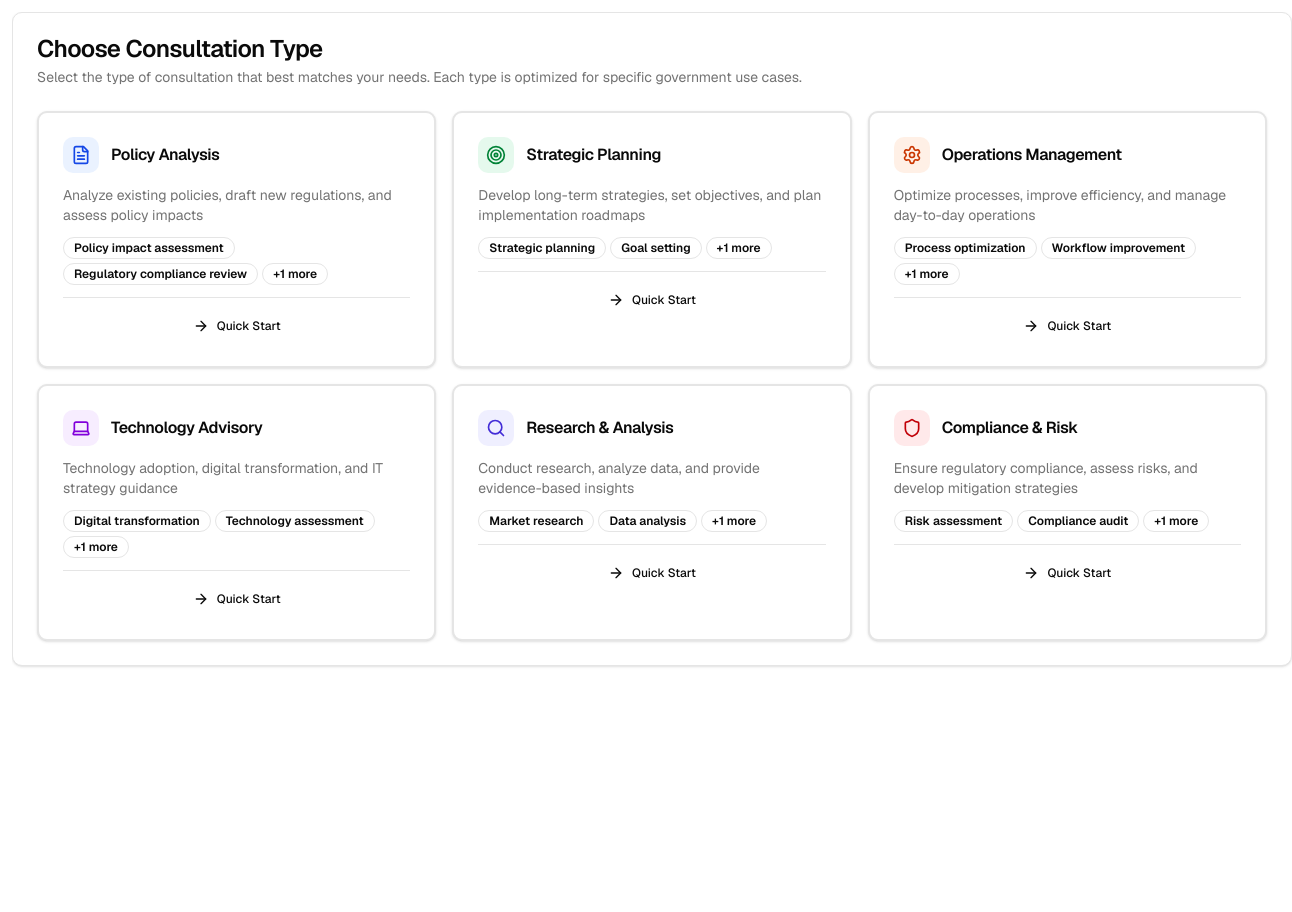
Test case: ConsultationTypeSelector › allows navigation back from details form
Click the text "Policy Analysis" at (165, 154), box x1=111 y1=144 x2=219 y2=165
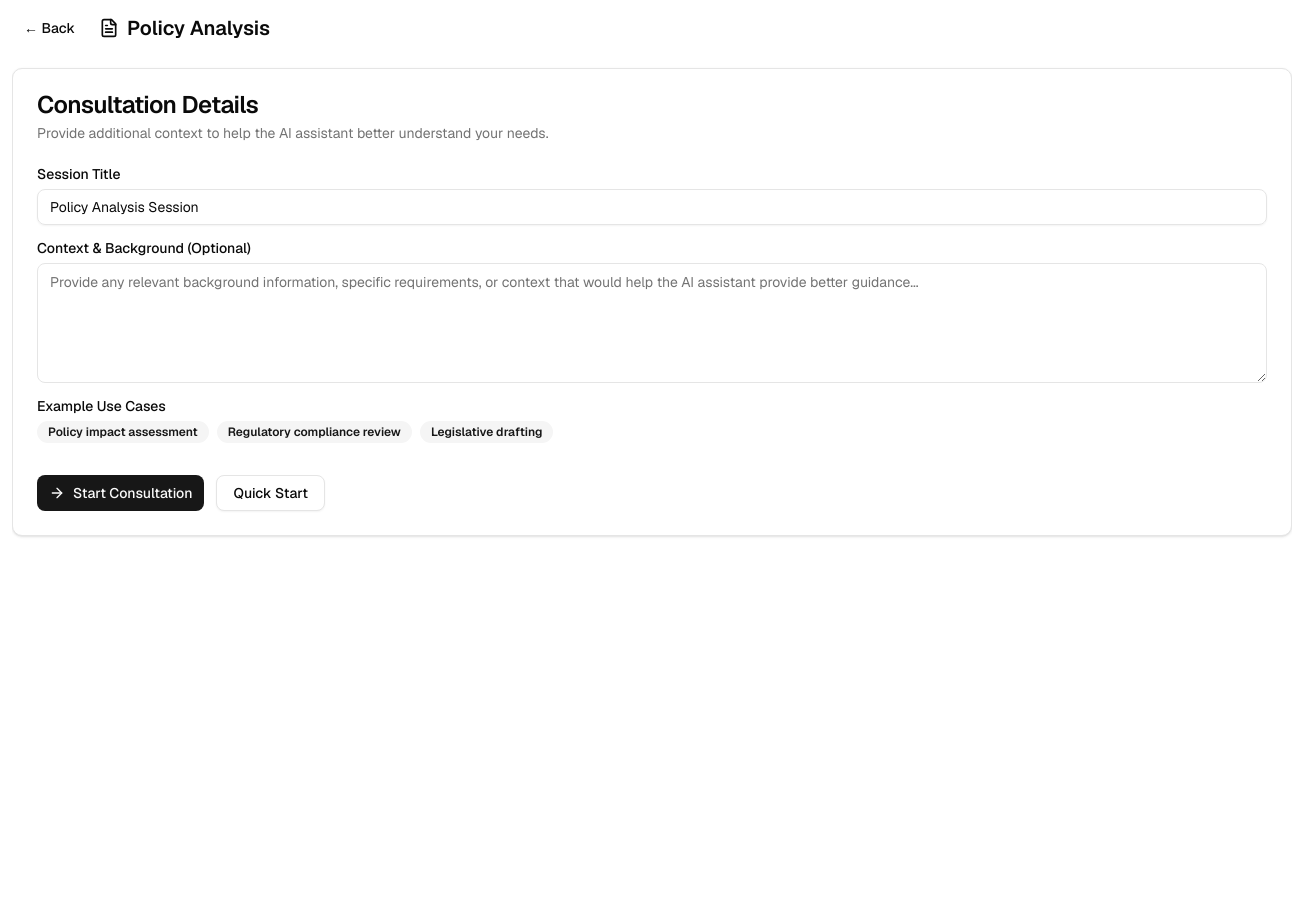
expect the heading "Consultation Details" is shown: met, box x1=37 y1=89 x2=258 y2=120
//  Go back
Click the button "← Back" at (50, 28), box x1=12 y1=12 x2=87 y2=44
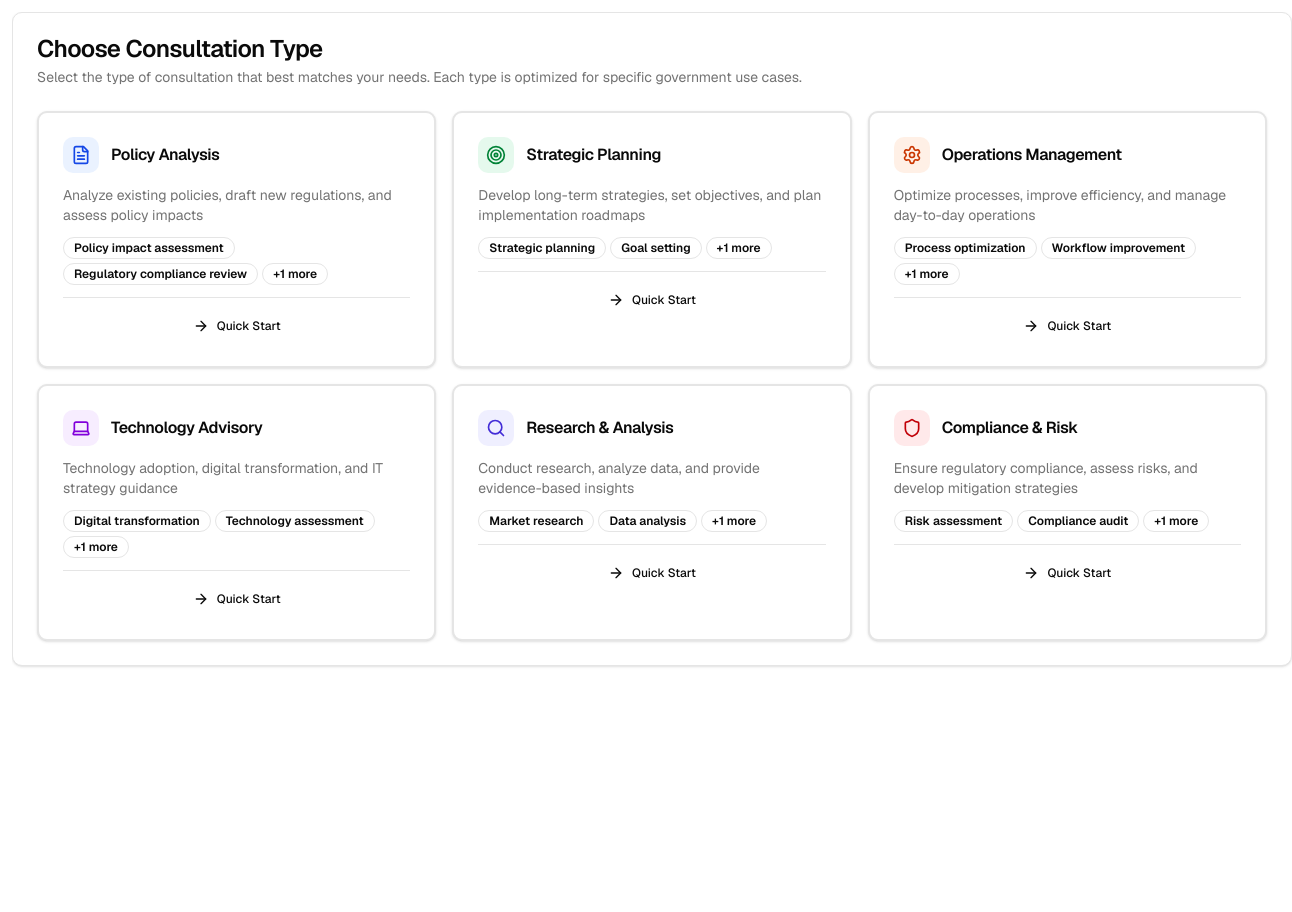
expect the heading "Choose Consultation Type" is shown: met, box x1=37 y1=33 x2=323 y2=64
